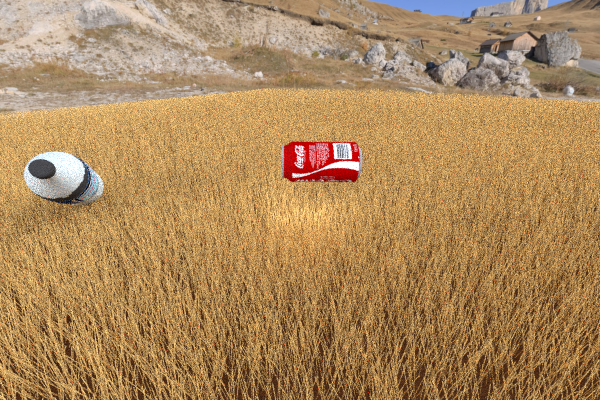bottle: (23, 151, 103, 205)
can: (281, 141, 362, 182), (299, 94, 330, 114)
